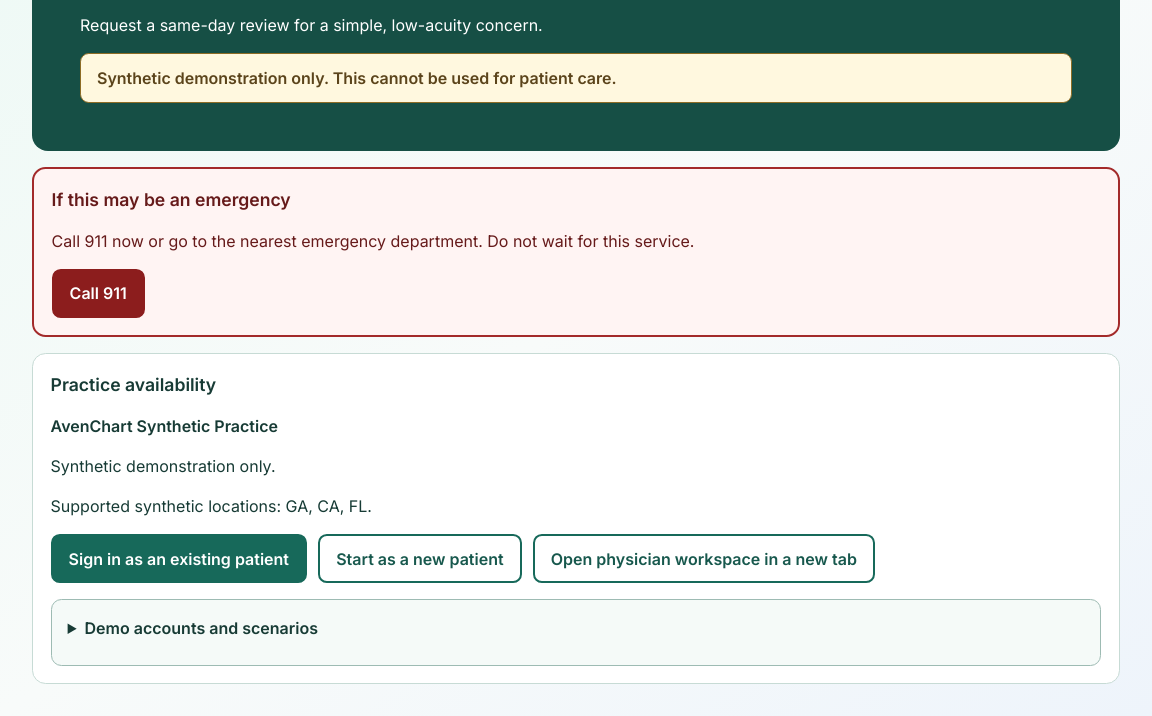
Test: TelehealthLanding › shows scenario-specific credentials in an expandable demo account guide
(page scrolled)
Click the heading "Demo accounts and scenarios". click: coordinates (201, 628)
box: [84,618,318,638]
(page scrolled)
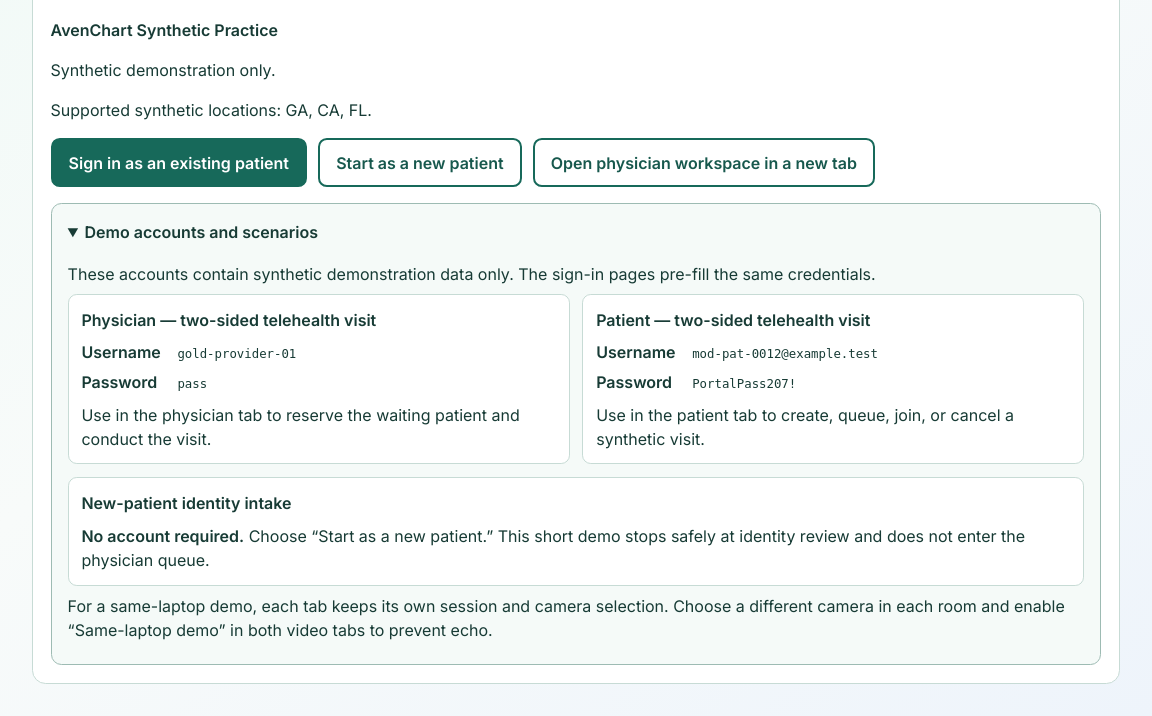
Expected: the heading "Physician — two-sided telehealth visit" is shown, [81,310,376,330]
Expected: the text "gold-provider-01" is shown, [177,347,296,361]
Expected: the text "pass" is shown, [177,377,207,391]
